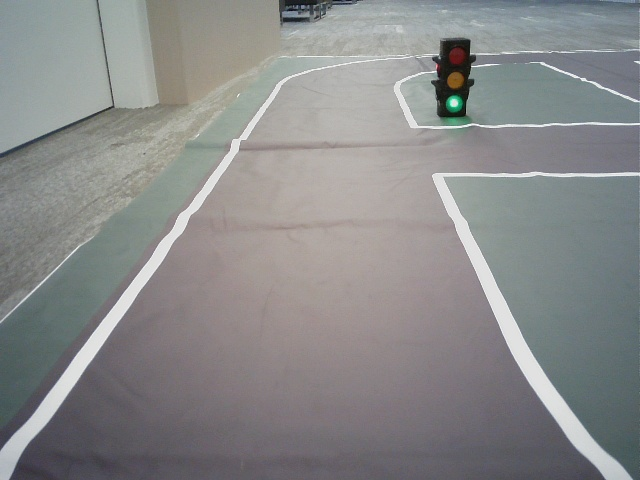green: (441, 44, 465, 115)
